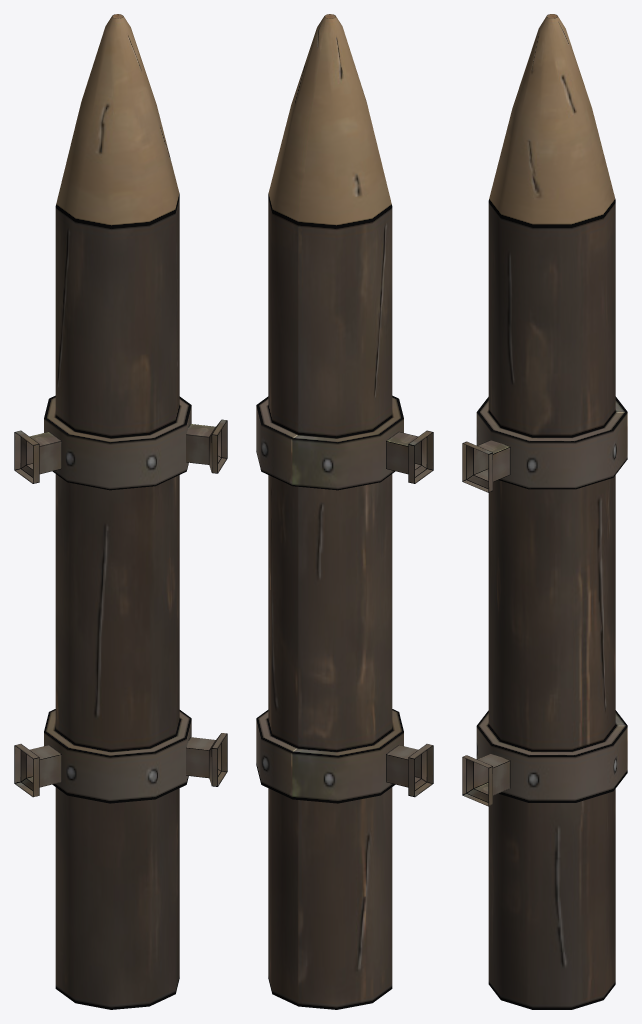
Rendered from wall_stake_curve.fbx.
The picture shows the model from 3 angles, left to right: view 1: azimuth 30°, elevation 25°; view 2: azimuth 150°, elevation 25°; view 3: azimuth 270°, elevation 25°; orthographic projection.
Parts seen in each view (by area): view 1: wall_stake_curve; view 2: wall_stake_curve; view 3: wall_stake_curve.
Part boxes in pixels (x1,y1,x2,y2): wall_stake_curve: [14, 14, 227, 1009]; wall_stake_curve: [256, 14, 433, 1009]; wall_stake_curve: [462, 14, 627, 1009].
Size of the model in its own units: 75.31 by 404 by 62.71.
1 material, 1 textured.
